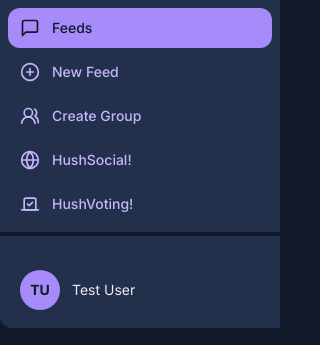
Test case: Sidebar › User Menu › should close menu when Account Details is clicked
This screenshot has width=320, height=345.
Open menu
Click the text "Test User".
click(104, 290)  # box [72,280,135,300]
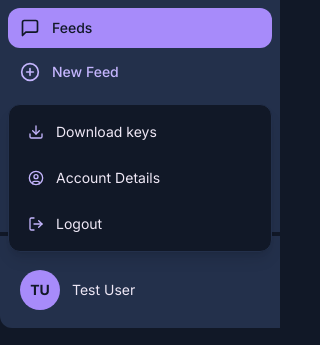
Check: the text "Account Details" is shown, box [56,168,160,188]
Click Account Details
Click the button "Account Details".
click(140, 178)  # box [15,157,265,199]
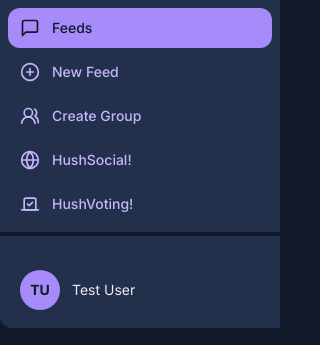
Check: the button "Account Details" is gone
